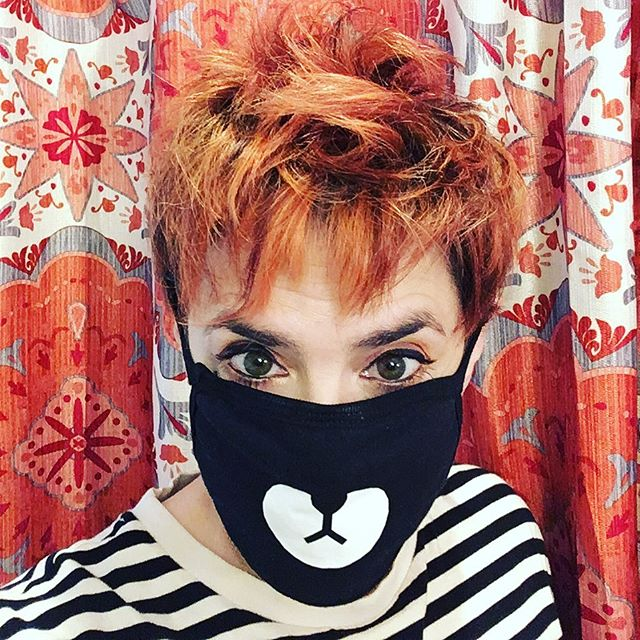homemade: (185, 362, 477, 613)
